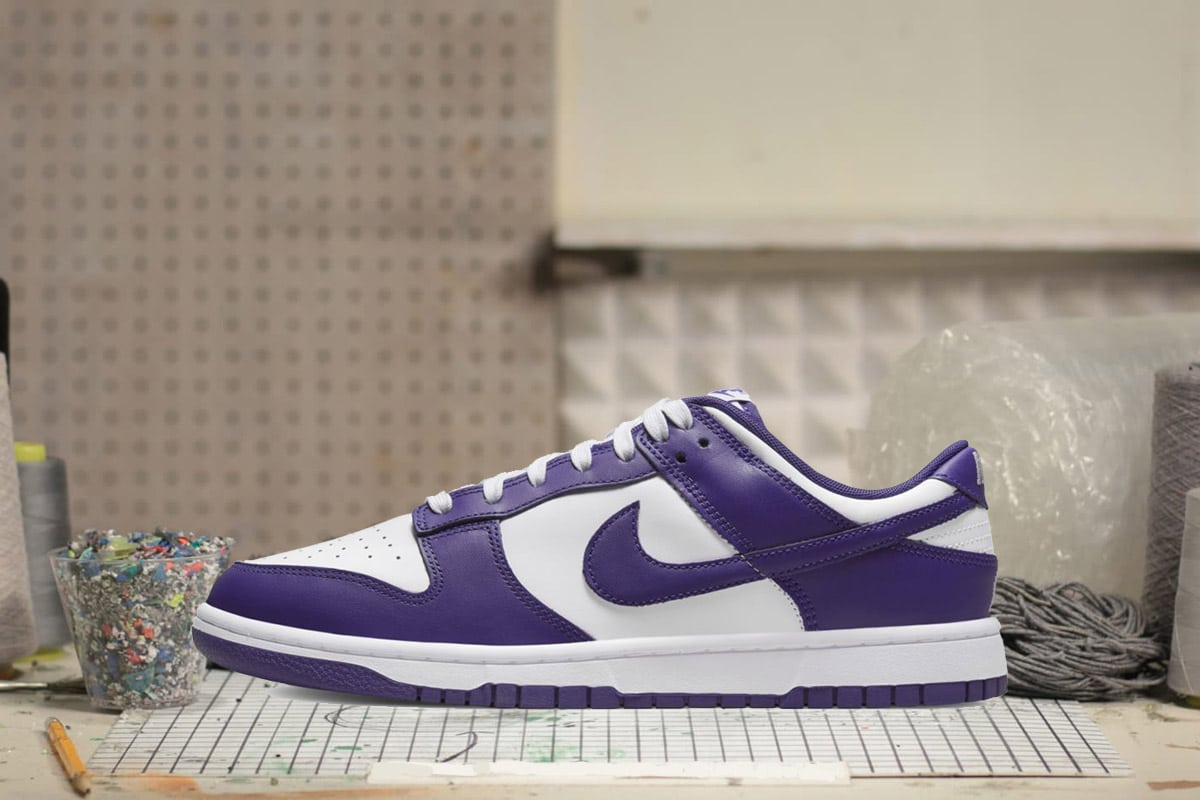nike_dunk_low_purple_court: (185, 388, 1013, 712)
